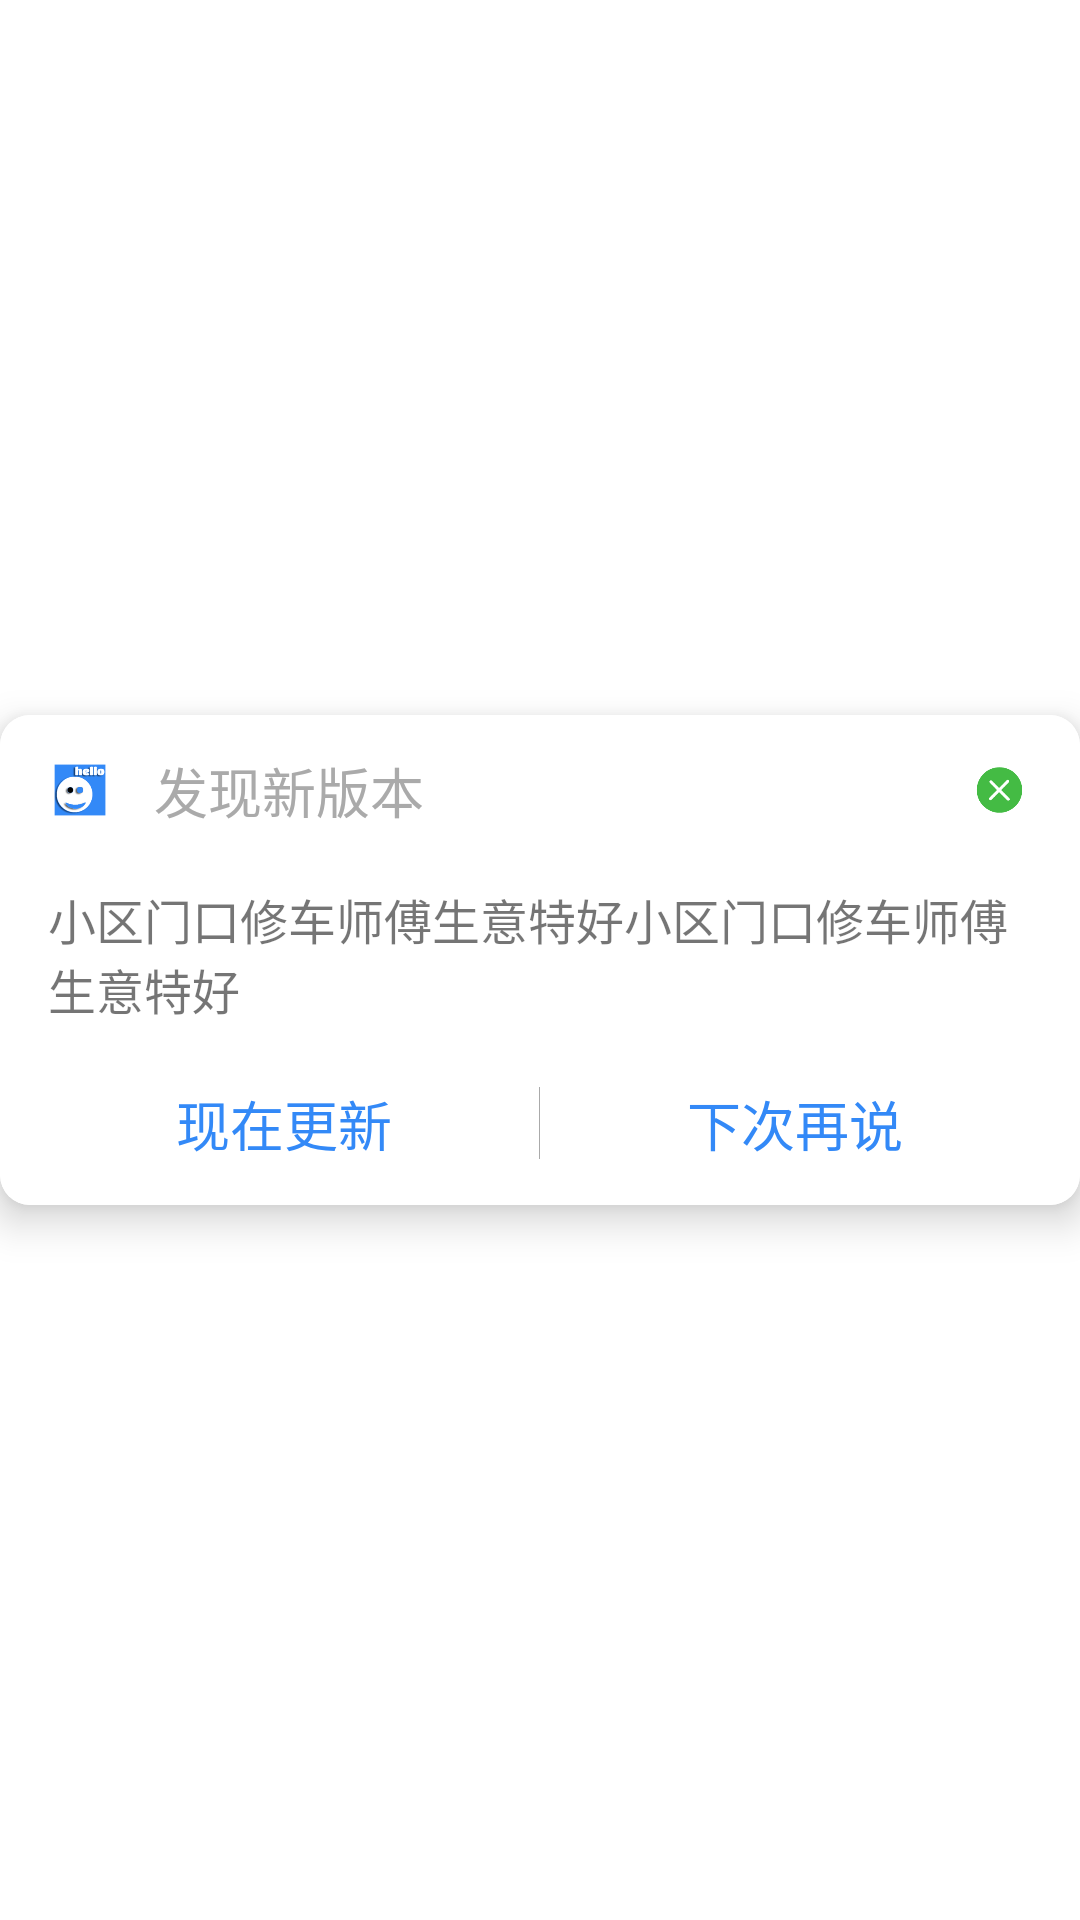

Point at icon controls on the screen. Image size 1080x1920, points as point (x, y).
app: point (80, 790)
update close: point (999, 790)
